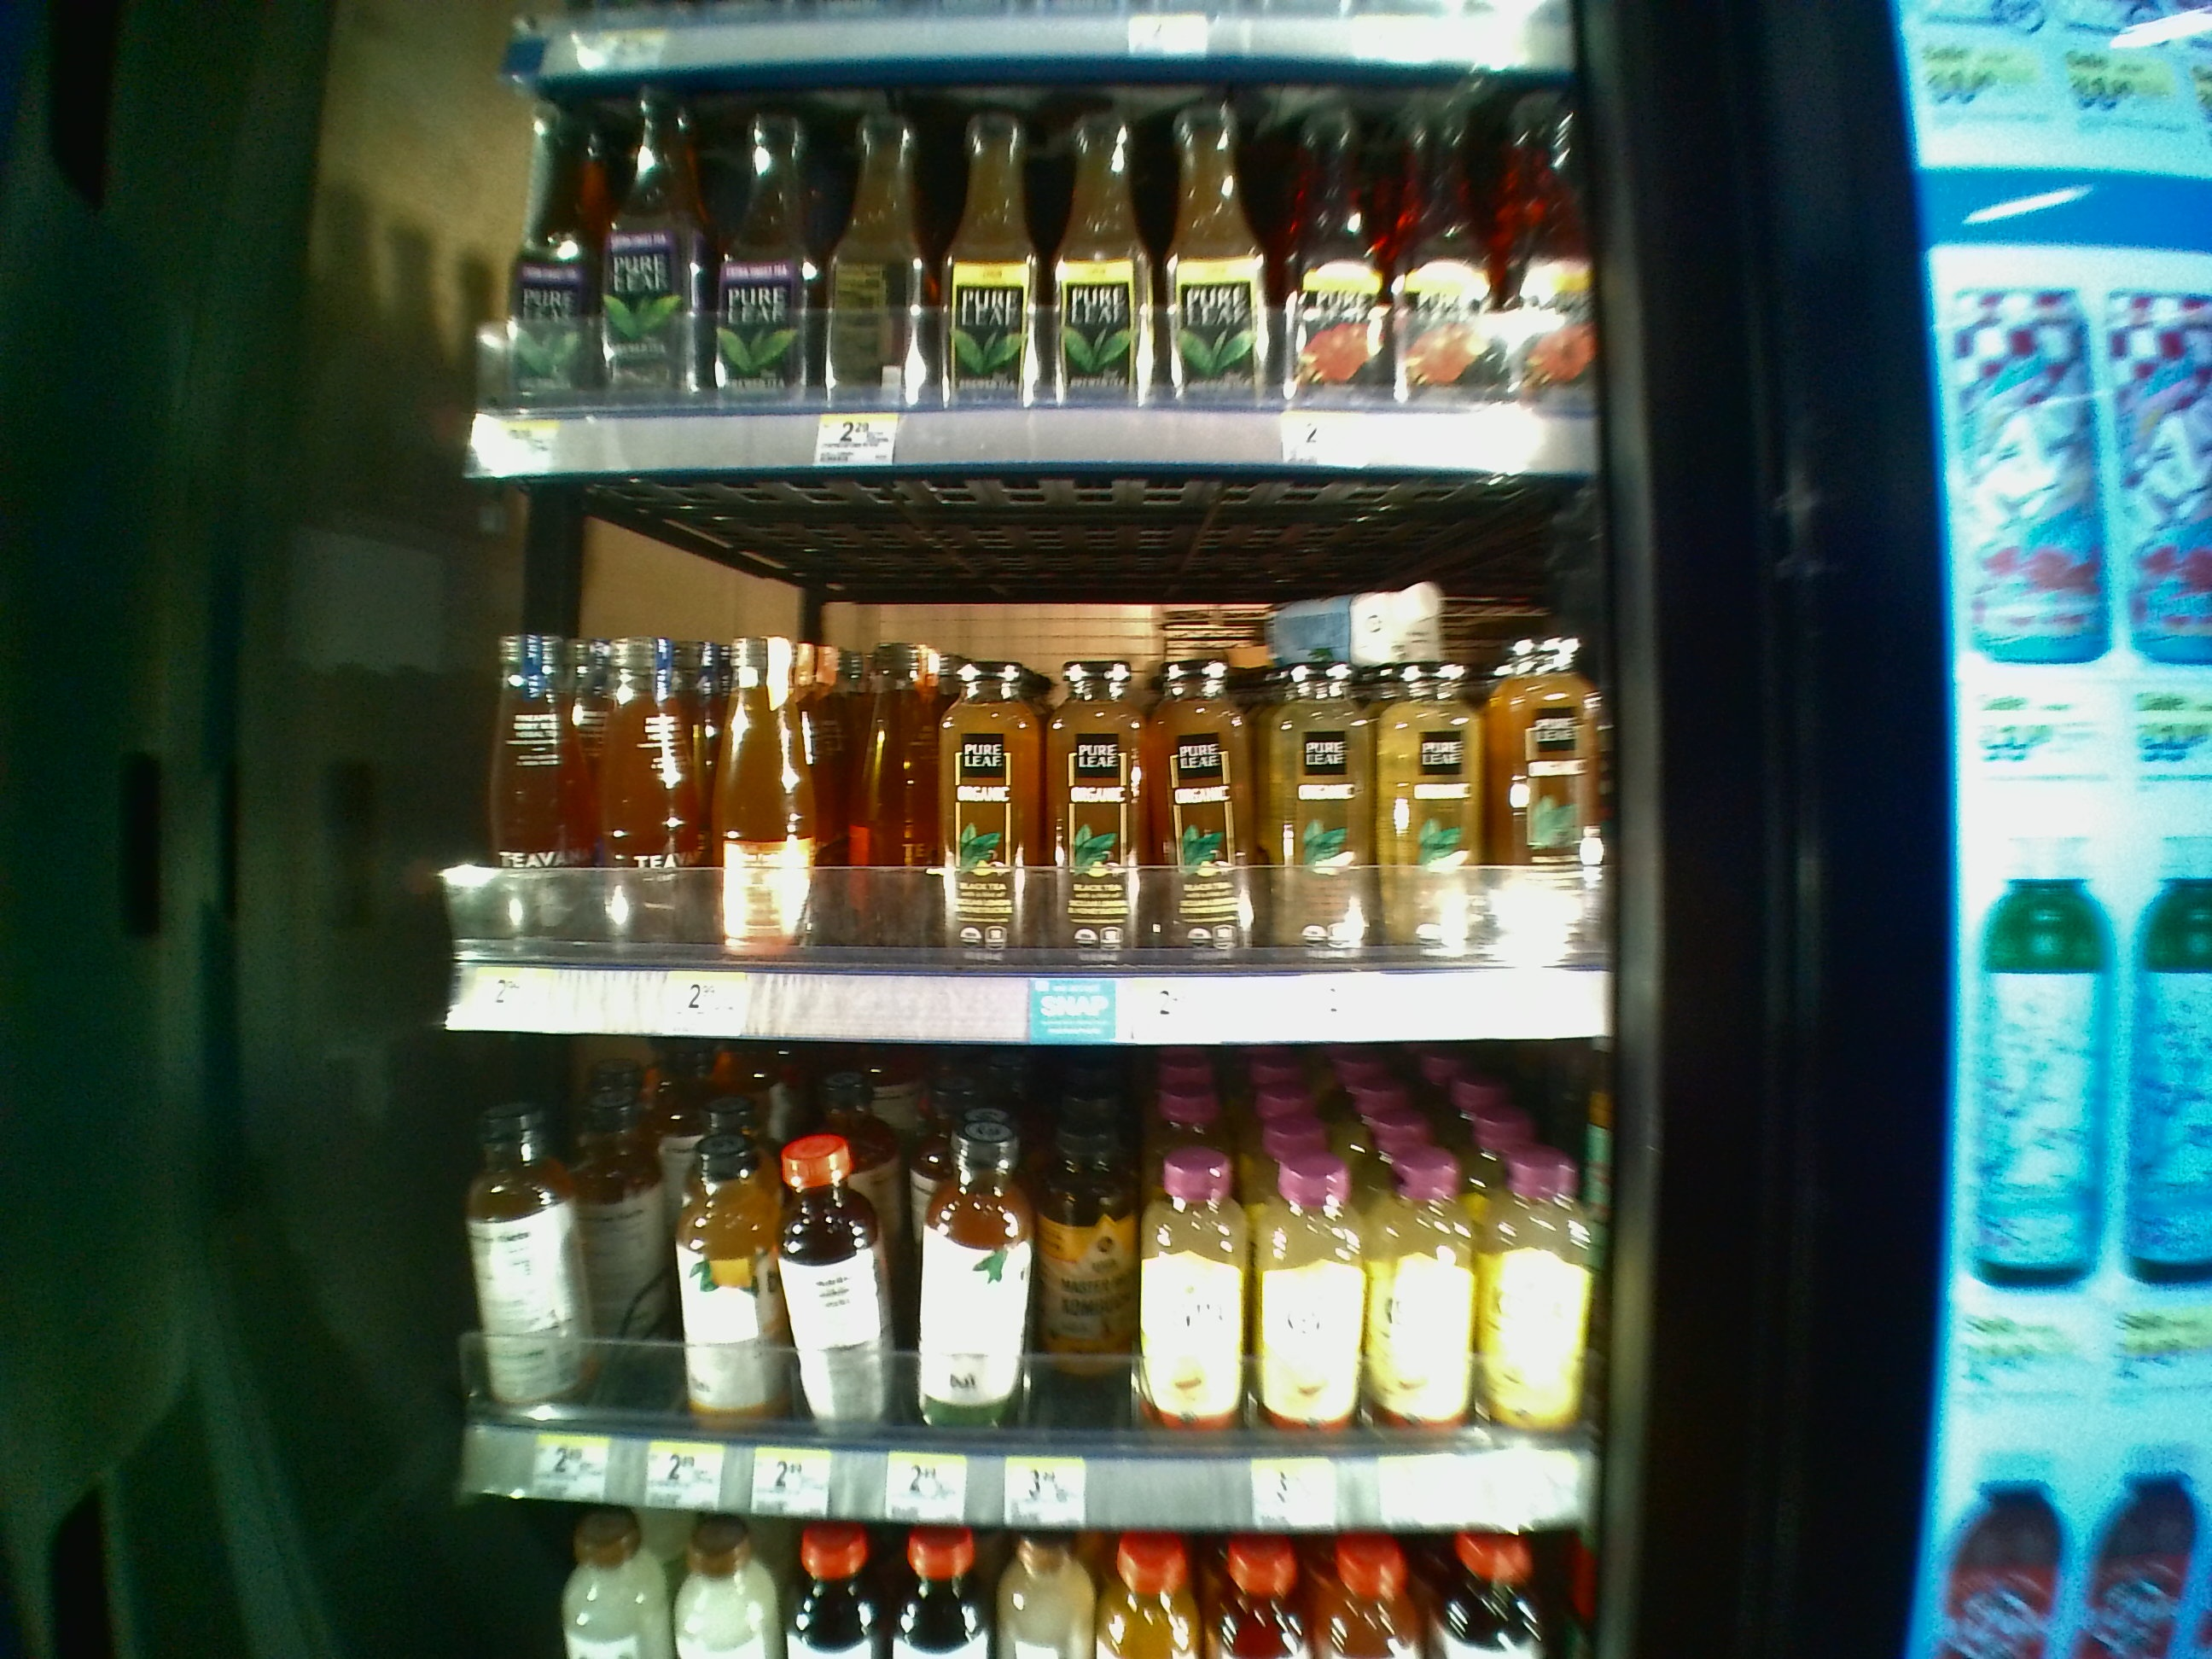shelf: (428, 493, 1618, 1035), (425, 1053, 1623, 1525), (467, 82, 1601, 483)
